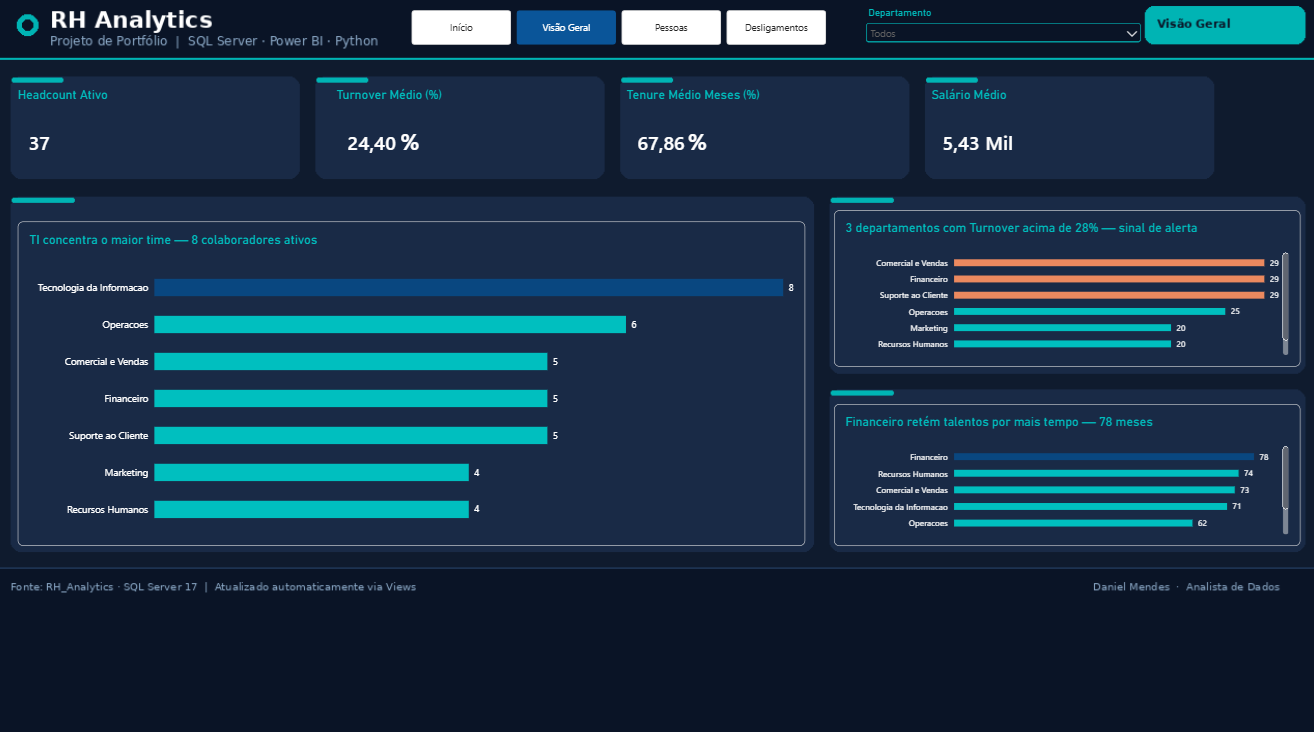

This screenshot's page, from the dashboard's own definition file:
{"tool":"powerbi","page":{"name":"Visão Geral","canvas":[1920,1080],"ordinal":1},"visuals":[{"type":"cardVisual","title":"Headcount Ativo","fields":{"Data":["Sum(vw_Headcount_Ativo.Headcount_Ativo)"]},"box":[35,135.8,393.1,119.4],"z":0},{"type":"cardVisual","title":"Turnover Médio (%)","fields":{"Data":["Avg(vw_Turnover_Departamento.Turnover_Pct)"]},"box":[496.1,135.8,397.3,119.4],"z":1000},{"type":"cardVisual","title":"Tenure Médio Meses (%)","fields":{"Data":["Avg(vw_Tenure_Departamento.Tenure_Medio_Meses)"]},"box":[916,135.8,399.3,119.4],"z":2000},{"type":"cardVisual","title":"Salário Médio","fields":{"Data":["Avg(vw_Painel_Executivo.Salario_Medio)"]},"box":[1356.4,135.8,403.4,119.4],"z":3000},{"type":"clusteredBarChart","title":"TI concentra o maior time — 8 colaboradores ativos","fields":{"Category":["vw_Headcount_Ativo.Departamento"],"Y":["Sum(vw_Headcount_Ativo.Headcount_Ativo)"]},"box":[35,329.3,1140.3,469.3],"z":4000},{"type":"clusteredBarChart","title":"3 departamentos com Turnover acima de 28% — sinal de alerta","fields":{"Category":["vw_Turnover_Departamento.Departamento"],"Y":["Avg(vw_Turnover_Departamento.Turnover_Pct)"]},"box":[1216.5,312.9,675.1,226.4],"z":5000},{"type":"textbox","box":[588.7,191.4,63.8,59.7],"z":6000},{"type":"textbox","box":[1004.5,191.4,63.8,59.7],"z":7000},{"type":"clusteredBarChart","title":"Financeiro retém talentos por mais tempo — 78 meses","fields":{"Category":["vw_Tenure_Departamento.Departamento"],"Y":["Avg(vw_Tenure_Departamento.Tenure_Medio_Meses)"]},"box":[1216.5,592.8,675.1,205.8],"z":8000},{"type":"slicer","fields":{"Values":["vw_Headcount_Ativo.Departamento"]},"box":[1257.6,18.5,407.5,53.5],"z":9000},{"type":"pageNavigator","box":[605.1,22.6,600,50],"z":10000}]}

Visuals, with their boxes in screenshot pixels (x1, y1, x2, y2), scaled from the page's 1920x1080 canvas onto the 1314x732 screenshot:
"Headcount Ativo" cardVisual: <box>24,92,293,173</box>
"Turnover Médio (%)" cardVisual: <box>340,92,611,173</box>
"Tenure Médio Meses (%)" cardVisual: <box>627,92,900,173</box>
"Salário Médio" cardVisual: <box>928,92,1204,173</box>
"TI concentra o maior time — 8 colaboradores ativos" clusteredBarChart: <box>24,223,804,541</box>
"3 departamentos com Turnover acima de 28% — sinal de alerta" clusteredBarChart: <box>833,212,1295,366</box>
textbox: <box>403,130,447,170</box>
textbox: <box>687,130,731,170</box>
"Financeiro retém talentos por mais tempo — 78 meses" clusteredBarChart: <box>833,402,1295,541</box>
slicer - vw_Headcount_Ativo.Departamento: <box>861,13,1140,49</box>
pageNavigator: <box>414,15,825,49</box>
